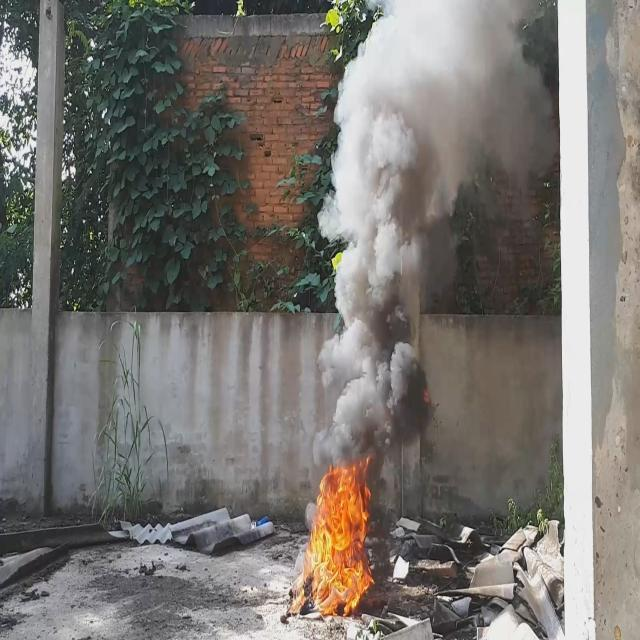Fire: (290, 452, 376, 620)
Smoke: (319, 0, 555, 471)
